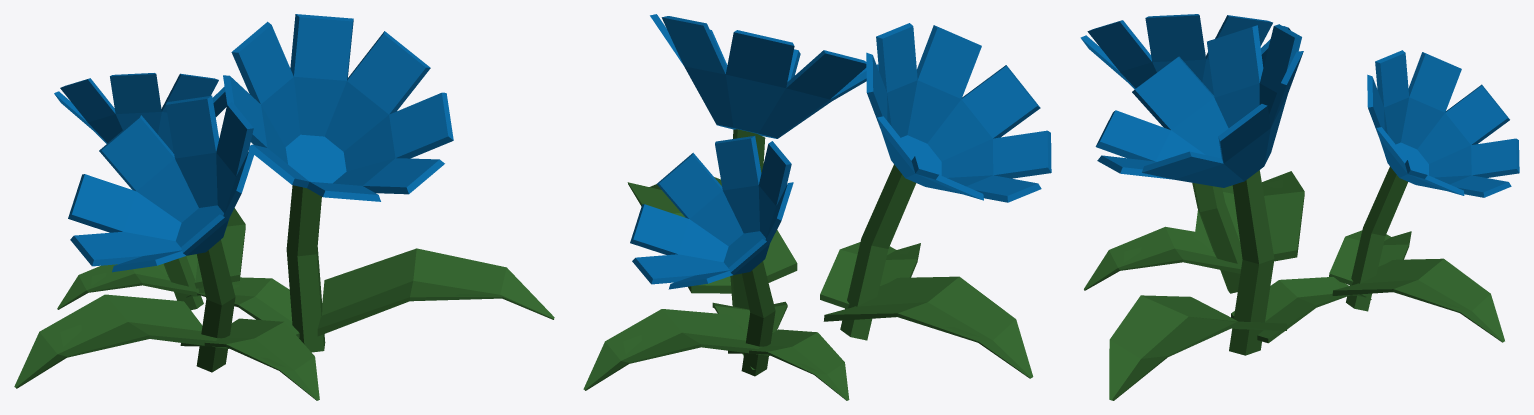
The model's file is Flower_03.fbx.
The picture shows the model from 3 angles, left to right: view 1: azimuth 30°, elevation 25°; view 2: azimuth 150°, elevation 25°; view 3: azimuth 270°, elevation 25°; orthographic projection. The views are drawn at different scales.
Parts seen in each view (by area): view 1: Flower_03; view 2: Flower_03; view 3: Flower_03.
Boxes of the visible parts, x1=… form: Flower_03: x1=14, y1=14, x2=554, y2=400; Flower_03: x1=583, y1=14, x2=1051, y2=400; Flower_03: x1=1080, y1=14, x2=1519, y2=400.
Size of the model in its own units: 122 by 77.23 by 101.
